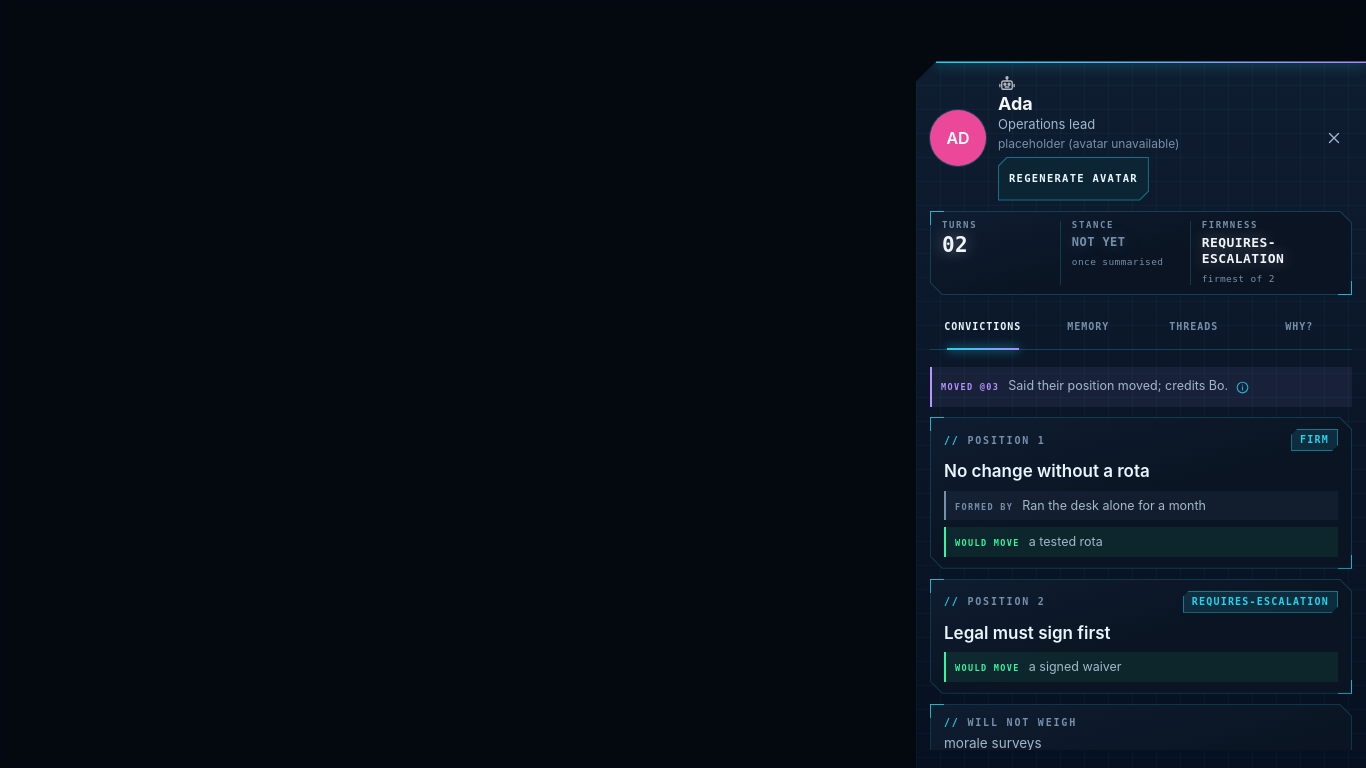
Test: Dossier — HUD and tabs › renders every tab’s content
This screenshot has width=1366, height=768.
Check: the text "No change without a rota" is shown, box [944,461,1150,481]
Check: the text "Operations lead" is shown, box [998,116,1095,132]
Click the tab "Memory": (1088, 327) [1036,305,1141,349]
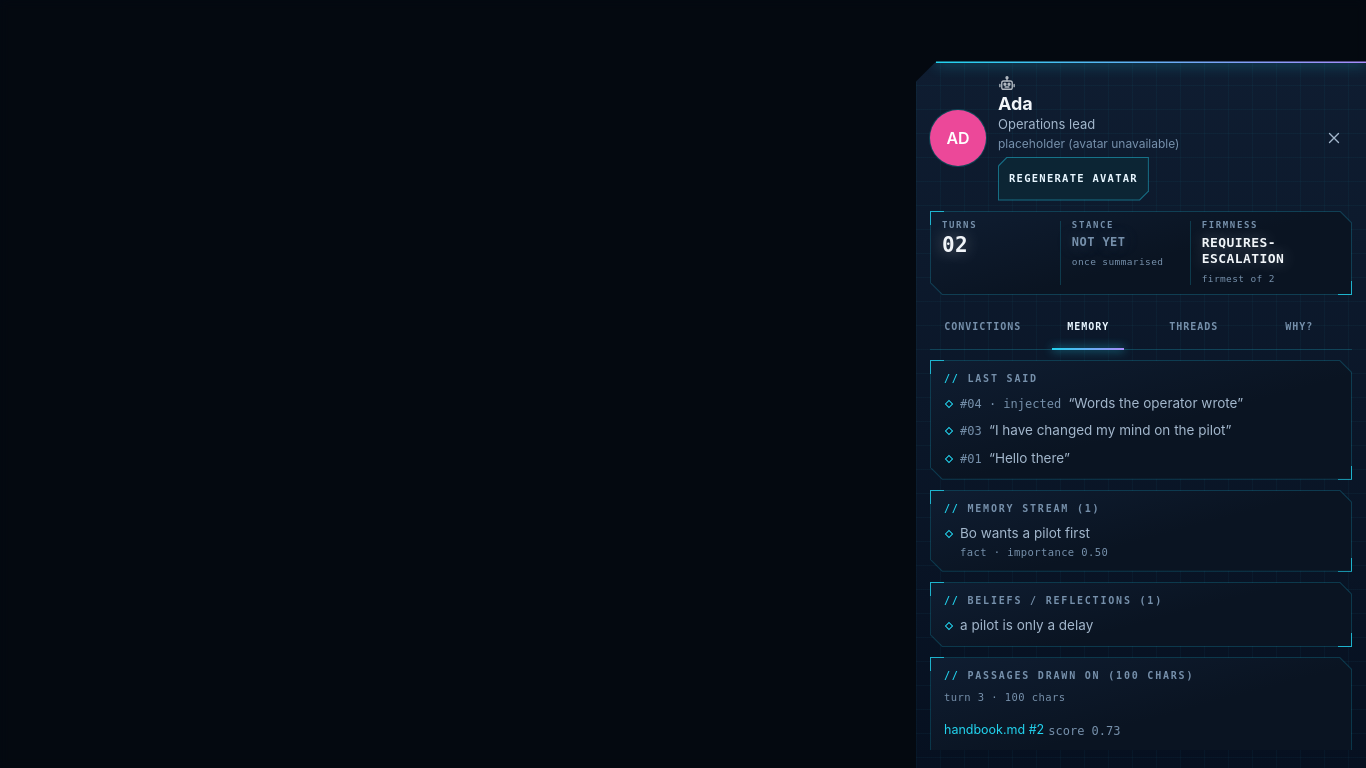
Check: the list item "Bo wants a pilot first" is shown, box [960,525,1090,541]
Check: the list item "a pilot is only a delay" is shown, box [960,617,1093,633]
Check: the button "handbook.md #2" is shown, box [944,709,1044,750]
Click the tab "Threads": (1194, 327) [1141,305,1246,349]
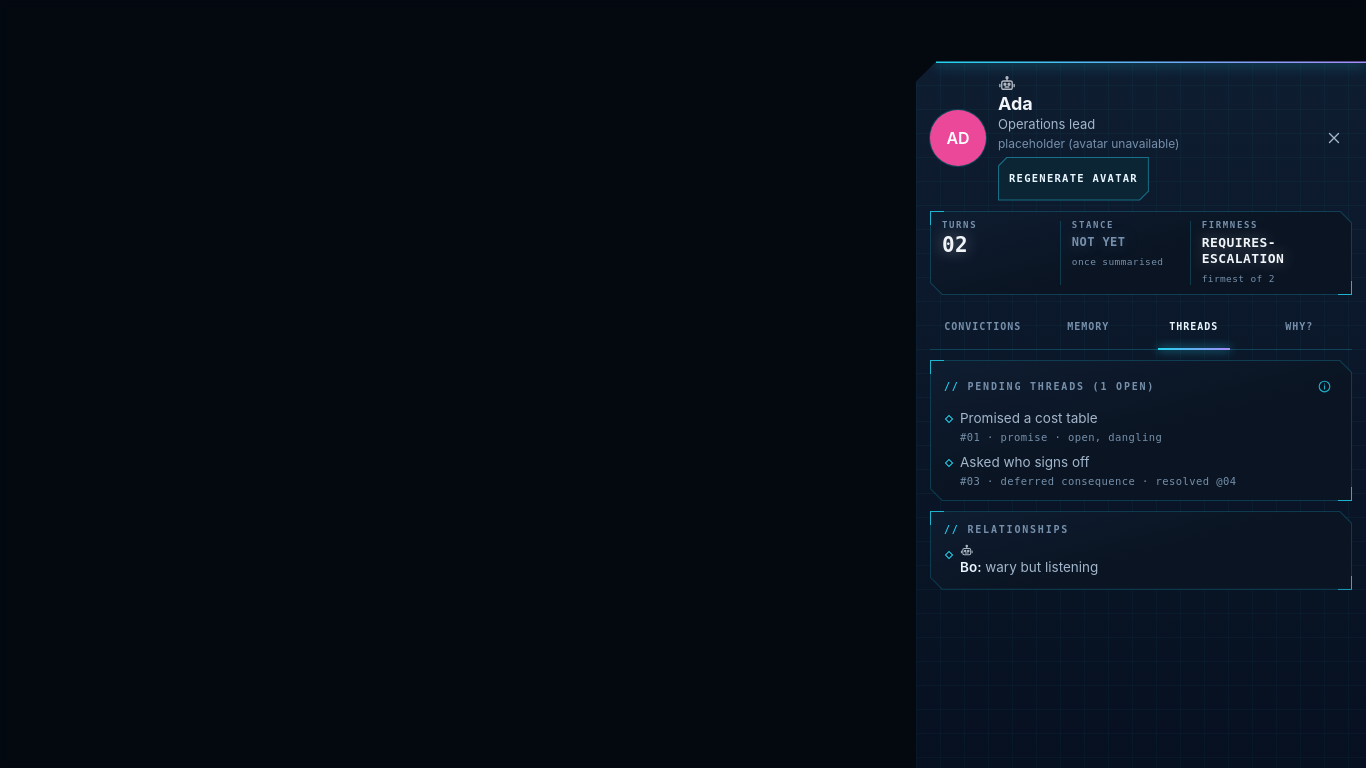
Check: the text "Pending threads (1 open)" is shown, box [944,380,1155,392]
Check: the list item "Promised a cost table" is shown, box [960,410,1098,426]
Check: the text "#01 · promise · open, dangling" is shown, box [960,431,1162,443]
Click the tab "Why?": (1299, 327) [1246,305,1352,349]
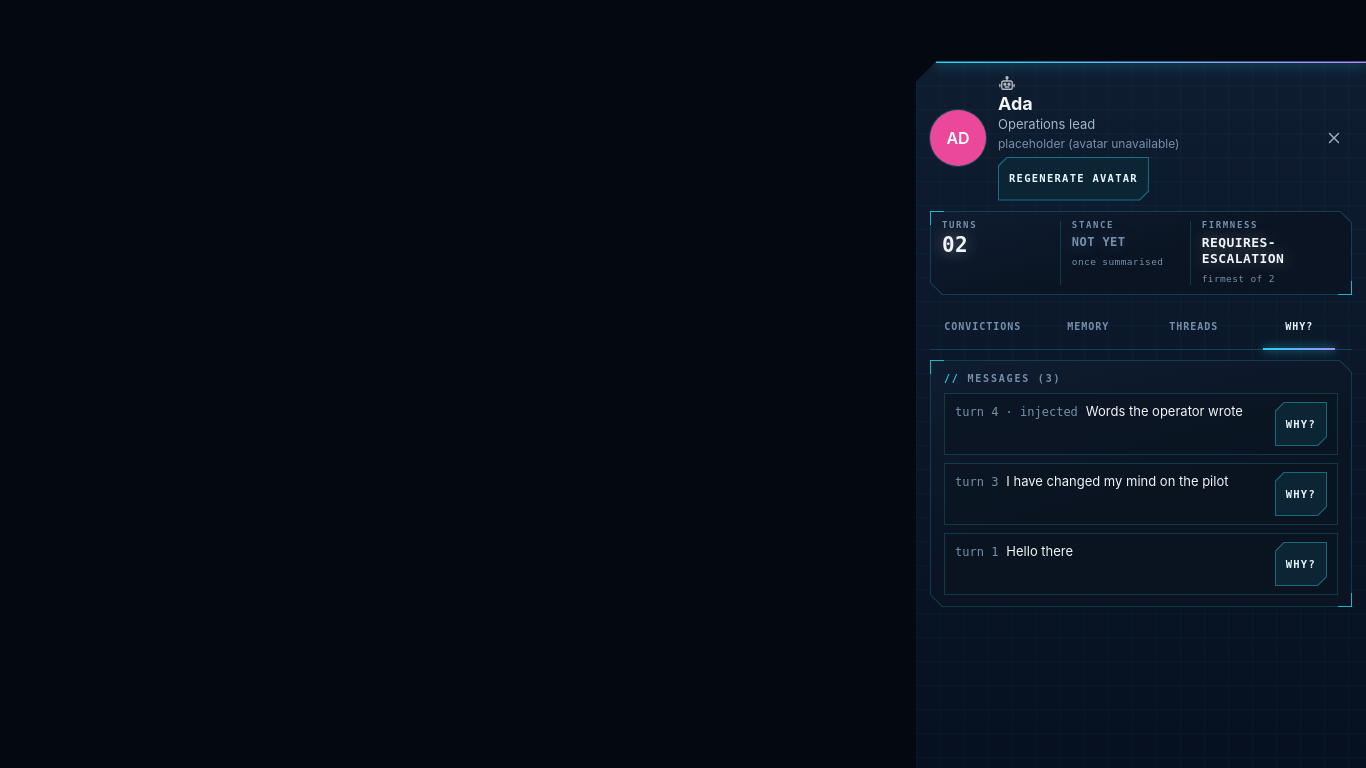
Check: the text "Messages (3)" is shown, box [968,373,1061,384]
Check: the number of buttons "why?" is 3, box [1275,402,1327,446]; [1275,472,1327,516]; [1275,542,1327,586]
